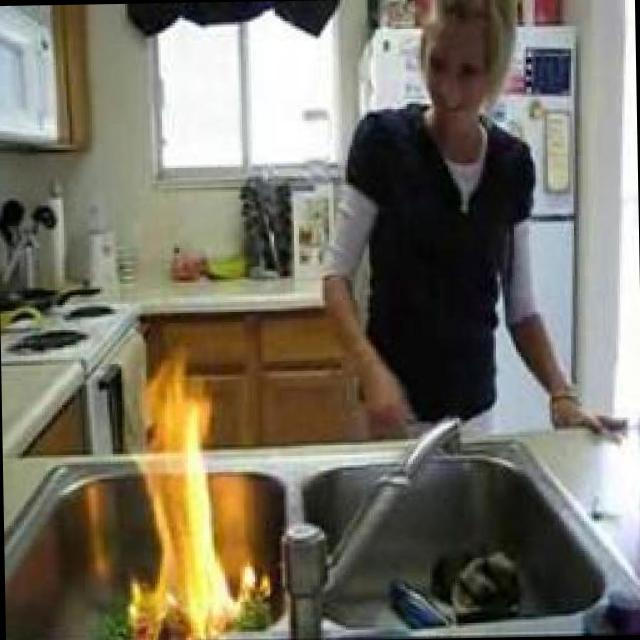Fire: (124, 342, 256, 638)
Smoke: (124, 342, 256, 638)
